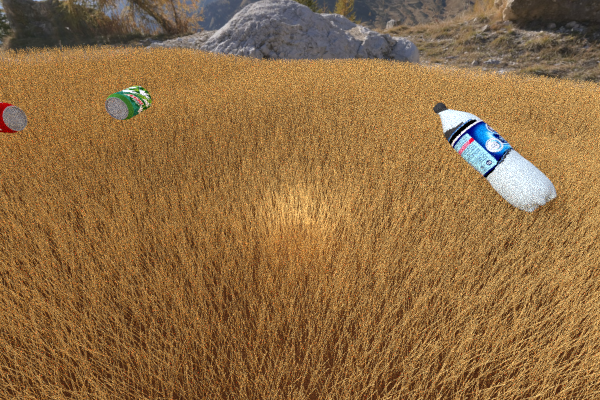bottle: (433, 102, 556, 212)
can: (105, 85, 151, 120), (0, 99, 27, 133)
